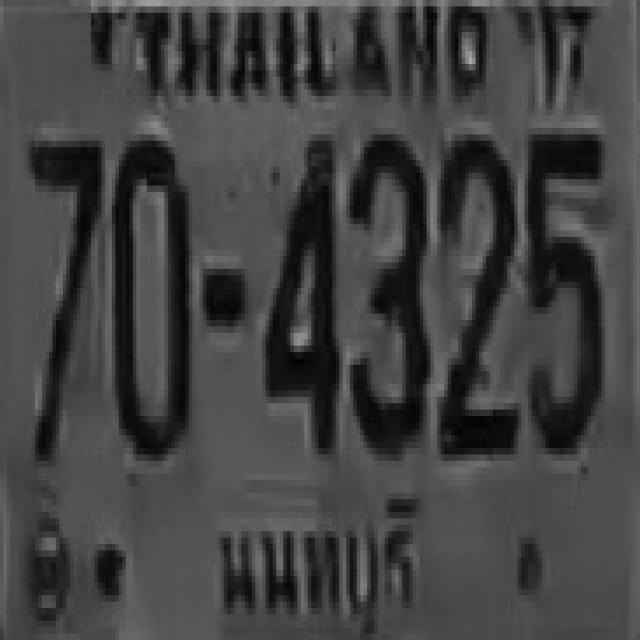0: (112, 134, 189, 454)
2: (437, 131, 514, 451)
3: (346, 128, 427, 448)
4: (262, 128, 336, 448)
5: (525, 128, 605, 448)
7: (26, 134, 100, 454)
Nonthaburi: (212, 481, 428, 640)
